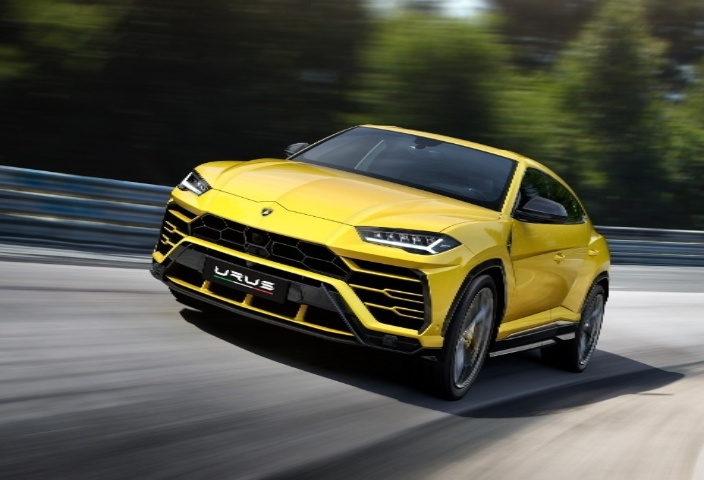car: (153, 99, 617, 402)
